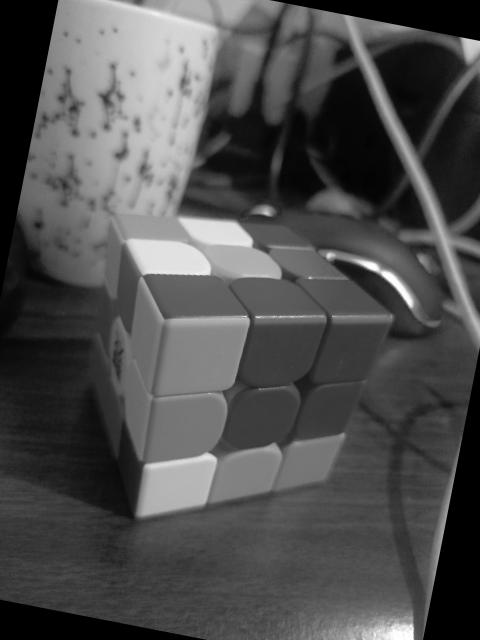rubik: (54, 188, 408, 558)
